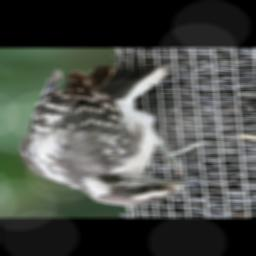Woodpecker: (19, 59, 212, 206)
